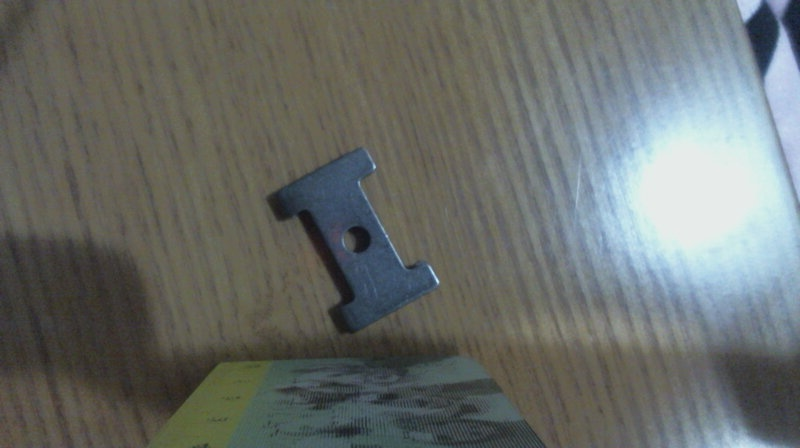O002: (268, 144, 441, 334)
